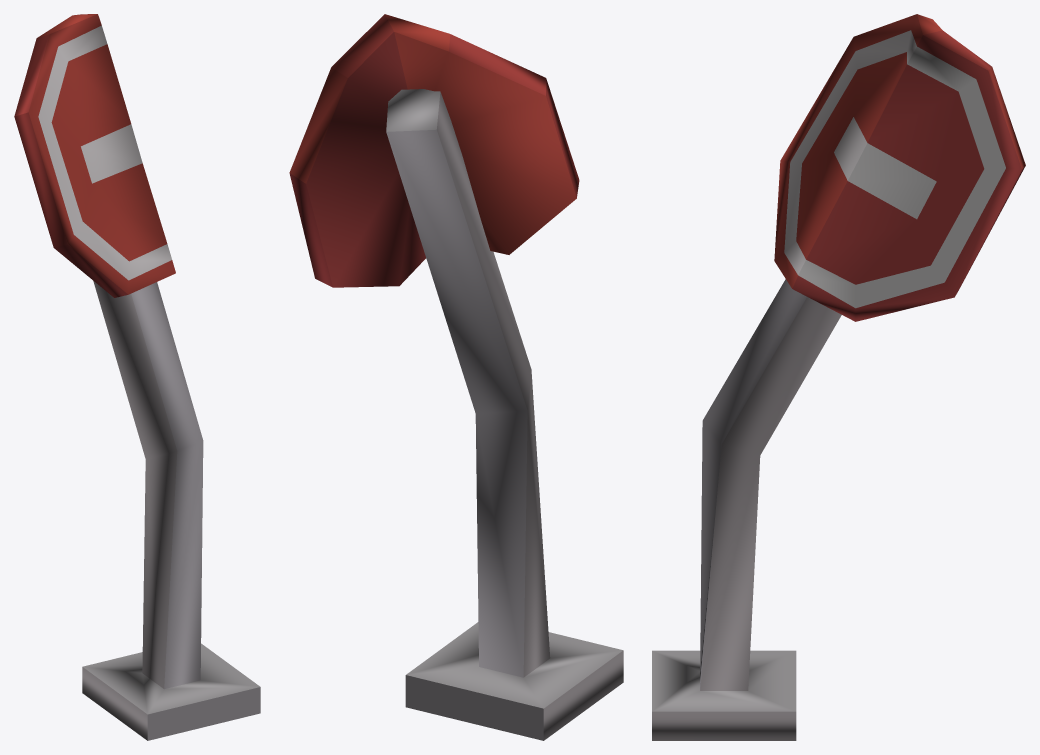
File: apoc_prop_5.glb
3 renders of one model, left to right at view 1: azimuth 30°, elevation 25°; view 2: azimuth 150°, elevation 25°; view 3: azimuth 270°, elevation 25°, orthographic. The views are drawn at different scales.
Visible parts, largest first — view 1: prop_005; view 2: prop_005; view 3: prop_005.
Part boxes in pixels (left/top/right/bottom): prop_005: left=14, top=14, right=260, bottom=740; prop_005: left=289, top=14, right=623, bottom=740; prop_005: left=652, top=14, right=1025, bottom=740.
Bounding box in the file's own units: 0.0921 × 0.3621 × 0.1793.
1 material, 1 textured.
